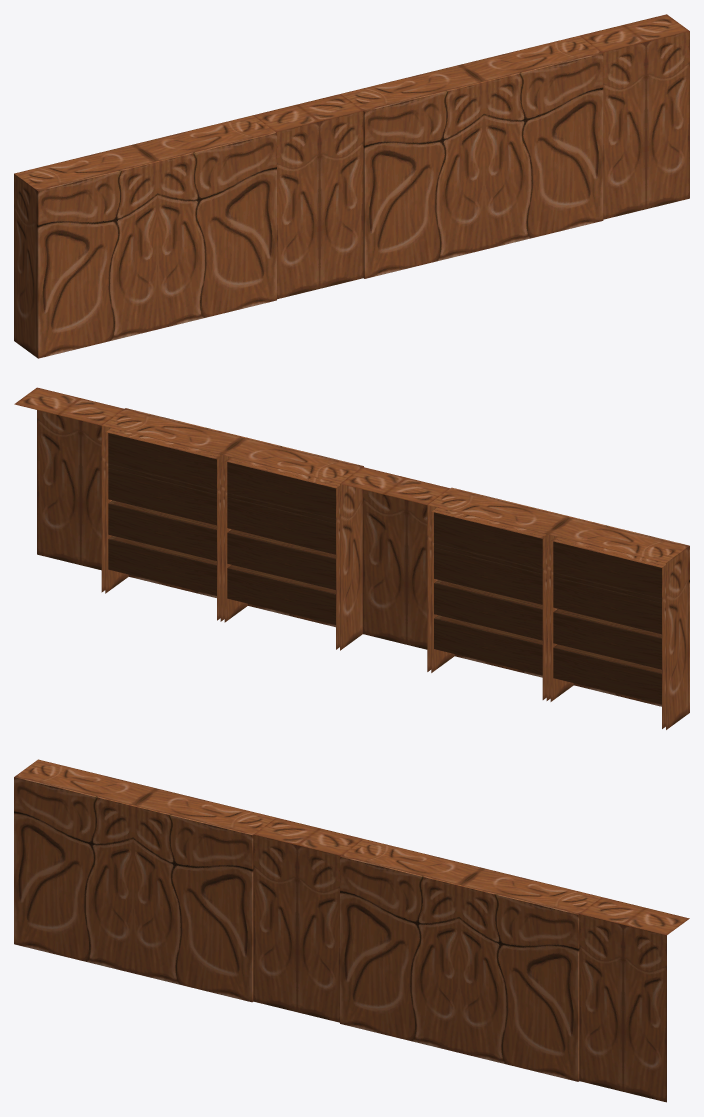
File: EKH_GROTTO_PS_GR_BOOKC73__GX.fbx
3 renders of one model, top to bottom at view 1: azimuth 30°, elevation 25°; view 2: azimuth 150°, elevation 25°; view 3: azimuth 330°, elevation 25°, orthographic.
Visible parts, largest first — view 1: EKH_GROTTO_PS_GR_BOOKC73__GX; view 2: EKH_GROTTO_PS_GR_BOOKC73__GX; view 3: EKH_GROTTO_PS_GR_BOOKC73__GX.
Part boxes in pixels (bbox=[...]): EKH_GROTTO_PS_GR_BOOKC73__GX: bbox=[14, 14, 689, 358]; EKH_GROTTO_PS_GR_BOOKC73__GX: bbox=[14, 387, 689, 729]; EKH_GROTTO_PS_GR_BOOKC73__GX: bbox=[14, 759, 689, 1102].
Bounding box in the file's own units: 85721 × 21000 × 5504.
6 materials, 6 textured.
